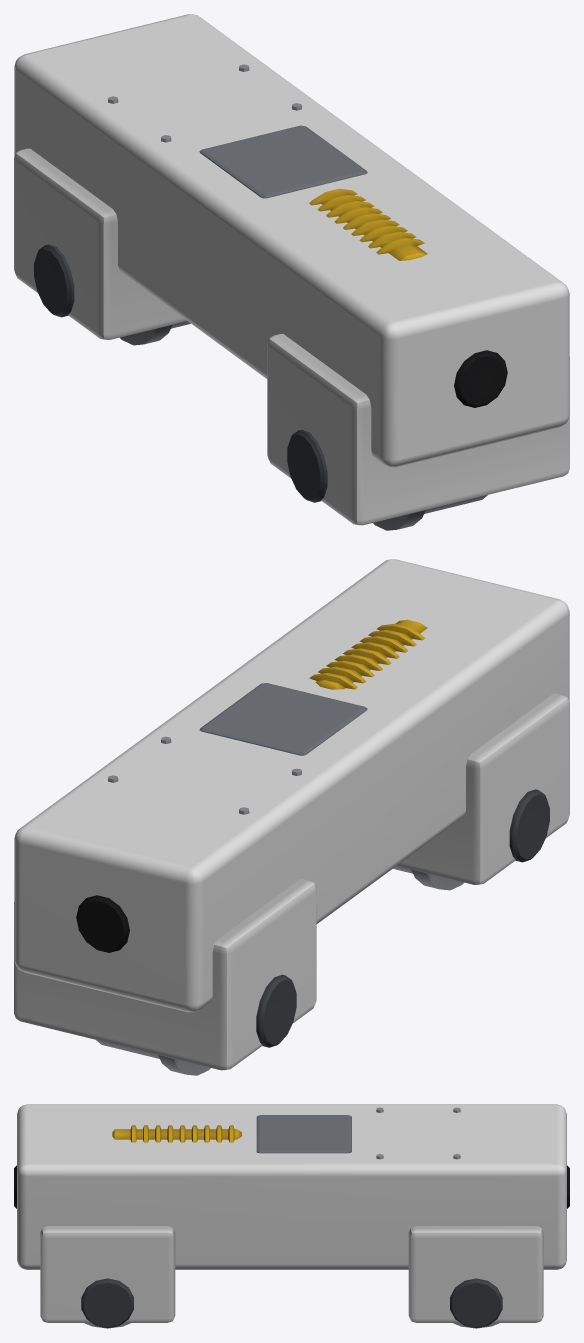
File: estilo_testero.glb
3 views of the same model, one above another, from view 1: azimuth 30°, elevation 25°; view 2: azimuth 150°, elevation 25°; view 3: azimuth 270°, elevation 25° (orthographic). The views are drawn at different scales.
Parts seen in each view (by area): view 1: b300x340x900; view 2: b300x340x900; view 3: b300x340x900.
Part boxes in pixels (x1,y1,x2,y2): b300x340x900: (14,14,569,530); b300x340x900: (14,559,569,1075); b300x340x900: (14,1104,569,1328).
Bounding box in the file's own units: 0.316 × 0.3431 × 0.91.
